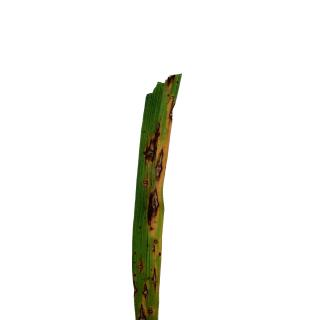Blast: (144, 120, 161, 165), (146, 186, 160, 236), (152, 143, 165, 187), (165, 98, 175, 128), (162, 75, 177, 91), (149, 267, 159, 291), (140, 280, 152, 300), (138, 302, 151, 319), (134, 257, 147, 273), (148, 238, 158, 257), (142, 175, 151, 188)
